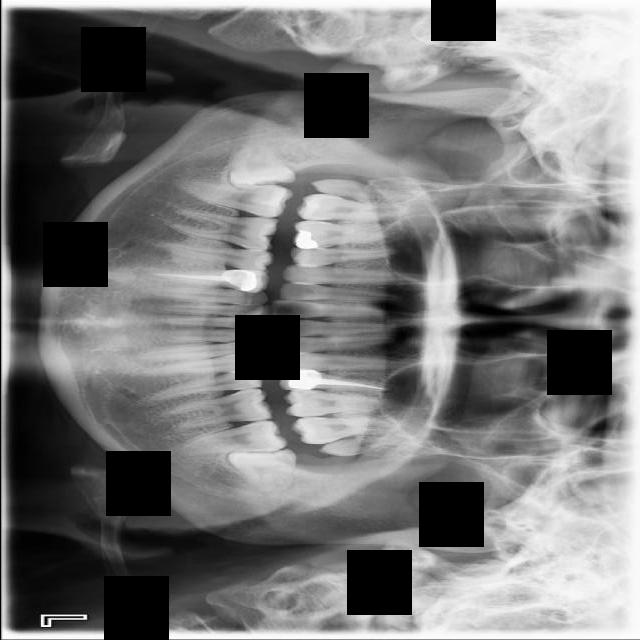3M ESPE Implant: (308, 176, 425, 206)
52: (291, 220, 339, 249), (218, 268, 269, 294), (278, 368, 327, 392)
73: (133, 267, 223, 286), (319, 373, 390, 392), (38, 614, 56, 622)
BioHorizons Implant: (291, 415, 409, 445)
BioLife Implant: (317, 428, 417, 461)
Biomet 3i Implant: (226, 447, 298, 493)
Blue Sky Bio Implant: (169, 418, 289, 459)
Caries: (294, 192, 407, 225)
Implant: (175, 179, 293, 220)
Keystone Dental Implant: (228, 143, 296, 191)
